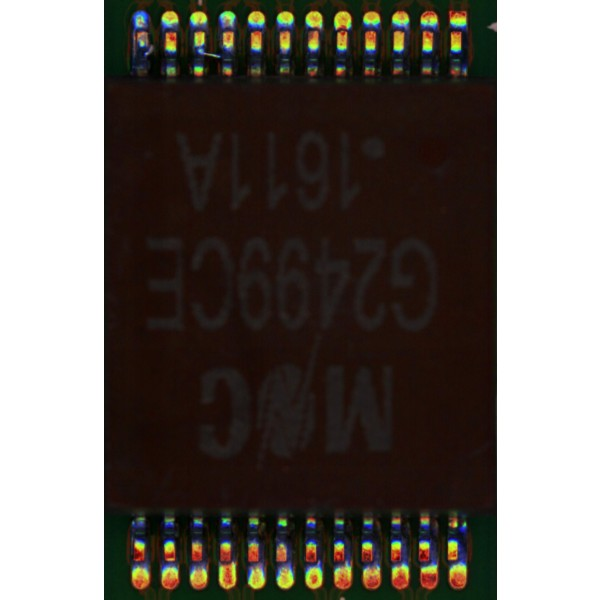Bad_podu: (337, 23, 348, 40), (220, 558, 232, 573)
